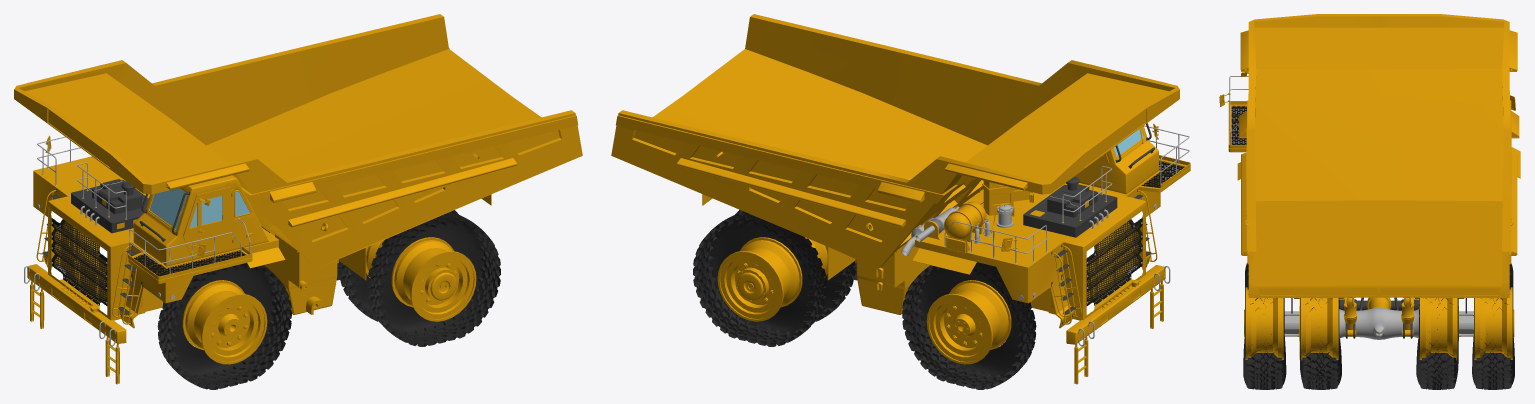
The model's file is cat_785c.glb.
3 renders of one model, left to right at view 1: azimuth 30°, elevation 25°; view 2: azimuth 150°, elevation 25°; view 3: azimuth 270°, elevation 25°, orthographic. The views are drawn at different scales.
Visible parts, largest first — view 1: ladle.001_65, body.005_7, tire_dirty.001_95, tire_dirty.002_201, Disk_behind_38, Disk.002_202, Kabina_56, grid_48, fastening.004_47, Kabina.001_57, Sup-box_89, Kabina.002_58 (+11 smaller); view 2: ladle.001_65, body.005_7, tire_dirty.001_95, tire_dirty_94, Disk_behind_38, Disk_93, fastening.004_47, grid_48, Sup-box_89, Kabina_56, Plane_70, object 157 (+10 smaller); view 3: ladle.001_65, Disk_behind_38, tire_dirty.001_95, Cilender.001_16, object 153, HoneyComb_53, JOIN_55, Circle.005_19, body.005_7.
Boxes of the visible parts, left/top/right/bottom form: ladle.001_65: left=14, top=14, right=582, bottom=268; body.005_7: left=33, top=156, right=278, bottom=328; tire_dirty.001_95: left=336, top=210, right=500, bottom=346; tire_dirty.002_201: left=157, top=263, right=291, bottom=389; Disk_behind_38: left=366, top=237, right=476, bottom=321; Disk.002_202: left=182, top=280, right=267, bottom=364; Kabina_56: left=133, top=175, right=268, bottom=266; grid_48: left=54, top=221, right=107, bottom=303; fastening.004_47: left=71, top=179, right=148, bottom=233; Kabina.001_57: left=183, top=187, right=234, bottom=258; Sup-box_89: left=264, top=233, right=337, bottom=314; Kabina.002_58: left=150, top=188, right=249, bottom=229; ladle.001_65: left=611, top=14, right=1179, bottom=268; body.005_7: left=915, top=159, right=1190, bottom=328; tire_dirty.001_95: left=693, top=209, right=857, bottom=346; tire_dirty_94: left=902, top=262, right=1036, bottom=389; Disk_behind_38: left=717, top=237, right=827, bottom=321; Disk_93: left=926, top=280, right=1011, bottom=364; fastening.004_47: left=1023, top=176, right=1117, bottom=237; grid_48: left=1086, top=221, right=1140, bottom=303; Sup-box_89: left=856, top=189, right=983, bottom=314; Kabina_56: left=1079, top=126, right=1159, bottom=194; Plane_70: left=1066, top=265, right=1165, bottom=344; object 157: left=944, top=201, right=986, bottom=242; ladle.001_65: left=1239, top=14, right=1519, bottom=297; Disk_behind_38: left=1244, top=287, right=1514, bottom=359; tire_dirty.001_95: left=1243, top=263, right=1514, bottom=389; Cilender.001_16: left=1284, top=308, right=1473, bottom=339; object 153: left=1343, top=298, right=1414, bottom=329; HoneyComb_53: left=1231, top=106, right=1246, bottom=144; JOIN_55: left=1339, top=299, right=1418, bottom=310; Circle.005_19: left=1367, top=297, right=1391, bottom=309; body.005_7: left=1228, top=104, right=1246, bottom=152.
Bounding box in the file's own units: 1.93 × 0.9675 × 1.17.
